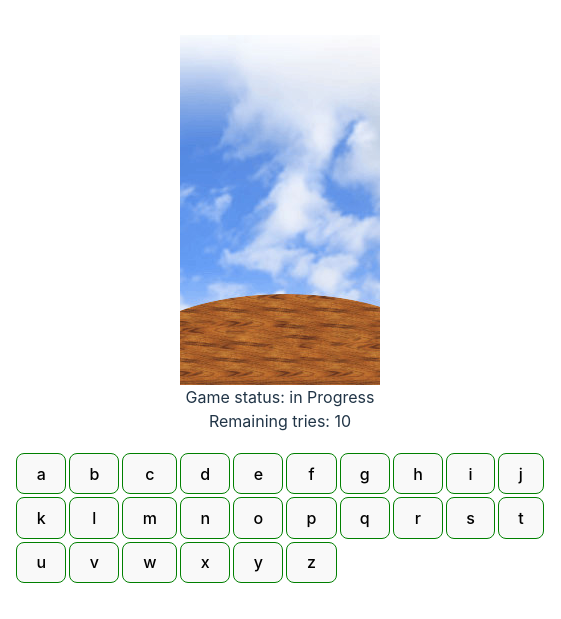
Test: App component › clicking letter not in secret word decreases num of tries
The image size is (561, 619).
Click the button "z". click: coordinates (312, 562)
box: [286,542,337,583]
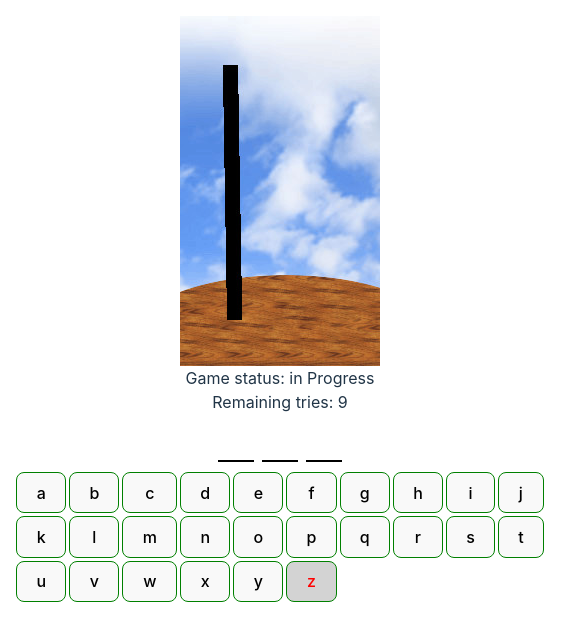
Now the text "Remaining tries: 9" is shown, box [212,390,348,414]
